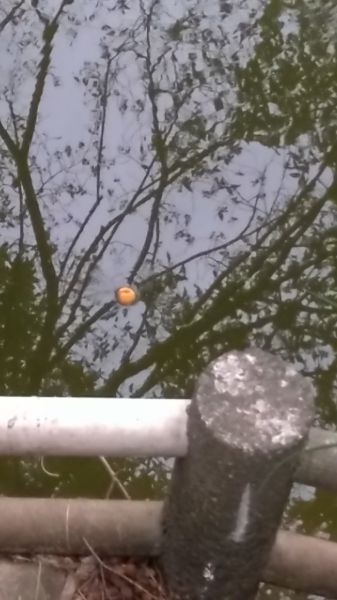eggs: (112, 282, 139, 304)
